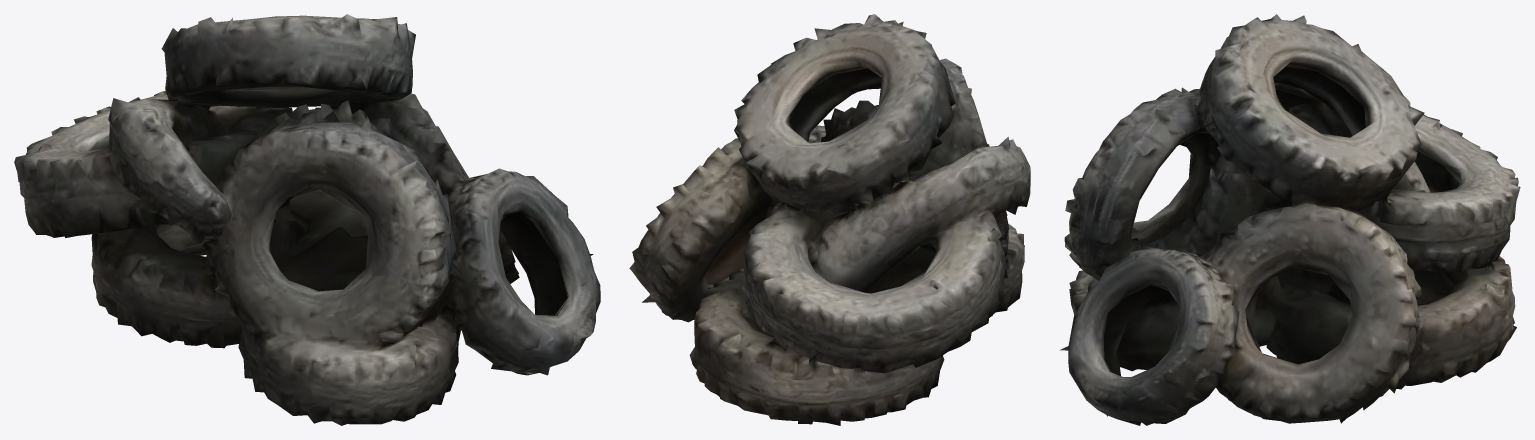
Rendered from p_tires.glb.
The picture shows the model from 3 angles, left to right: view 1: azimuth 30°, elevation 25°; view 2: azimuth 150°, elevation 25°; view 3: azimuth 270°, elevation 25°; orthographic projection. The views are drawn at different scales.
Parts seen in each view (by area): view 1: tripo_node_72d4a544-cab4-43f5-ab7c-bb3cb3f50a3f; view 2: tripo_node_72d4a544-cab4-43f5-ab7c-bb3cb3f50a3f; view 3: tripo_node_72d4a544-cab4-43f5-ab7c-bb3cb3f50a3f.
Boxes of the visible parts, x1,y1,x2,y2 form: tripo_node_72d4a544-cab4-43f5-ab7c-bb3cb3f50a3f: [14, 14, 600, 425]; tripo_node_72d4a544-cab4-43f5-ab7c-bb3cb3f50a3f: [629, 14, 1030, 425]; tripo_node_72d4a544-cab4-43f5-ab7c-bb3cb3f50a3f: [1060, 14, 1520, 425].
Size of the model in its own units: 0.9706 by 0.7435 by 1.
1 material, 1 textured.
